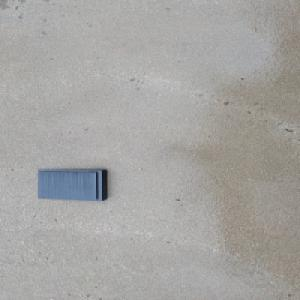PlasticPart: (35, 168, 109, 202)
